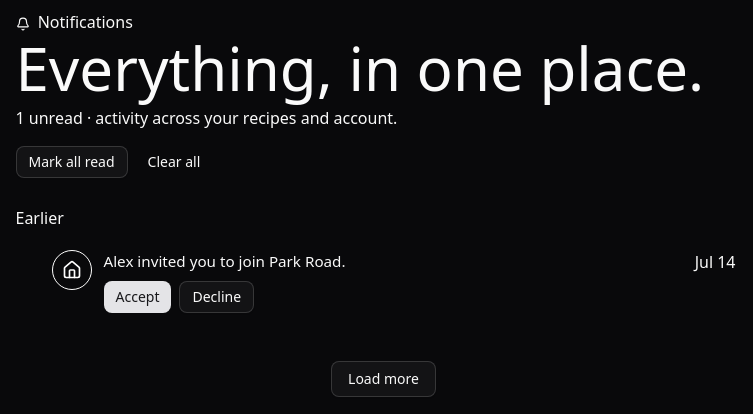
NotificationsView › loads subsequent archive pages
Click the button "Load more" at (384, 379), box [331,361,436,397]
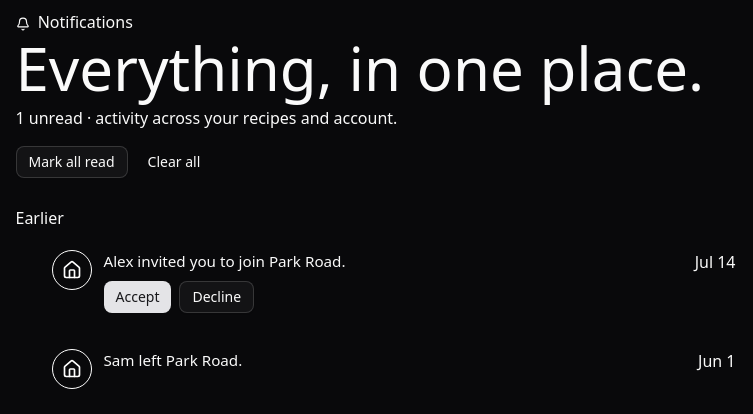
Expected: the text "Sam left Park Road." is shown, [104,350,242,370]
Expected: the button "Load more" is gone
